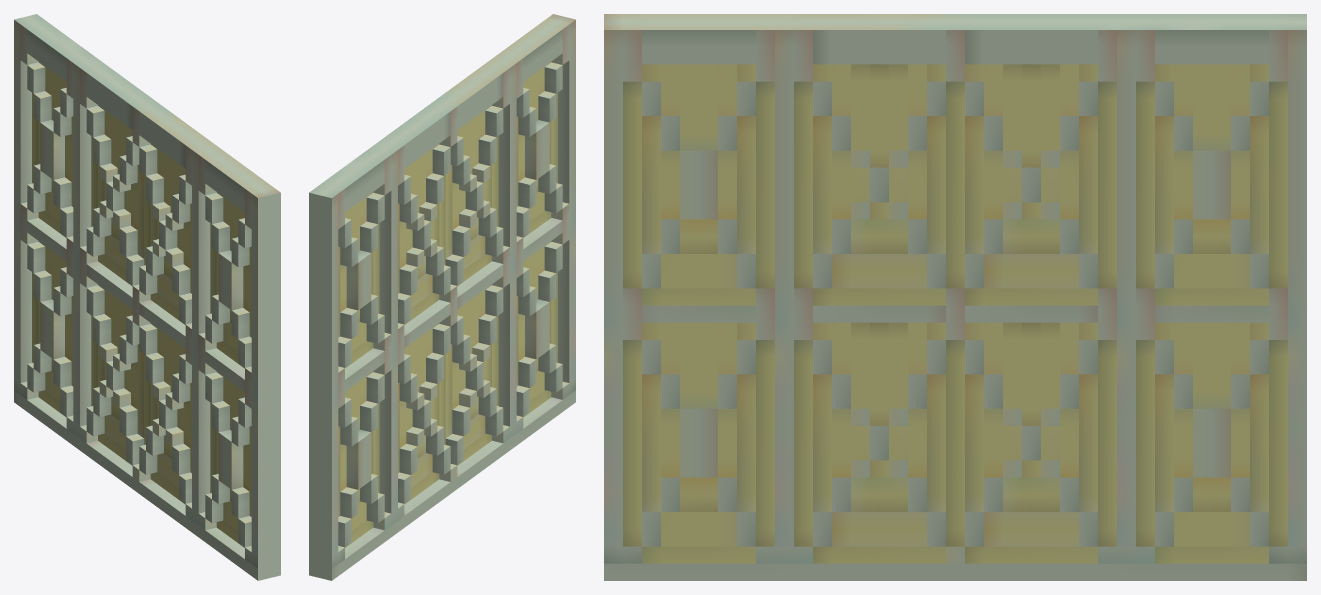
File: CrossFramesOutside_00.obj
3 renders of one model, left to right at view 1: azimuth 30°, elevation 25°; view 2: azimuth 150°, elevation 25°; view 3: azimuth 270°, elevation 25°, orthographic. The views are drawn at different scales.
Visible parts, largest first — view 1: CrossFramesOutside_00; view 2: CrossFramesOutside_00; view 3: CrossFramesOutside_00.
Boxes of the visible parts, x1,y1,x2,y2 form: CrossFramesOutside_00: [14, 14, 280, 580]; CrossFramesOutside_00: [309, 14, 575, 580]; CrossFramesOutside_00: [604, 14, 1306, 580].
Size of the model in its own units: 0.1 by 1.6 by 1.85.
